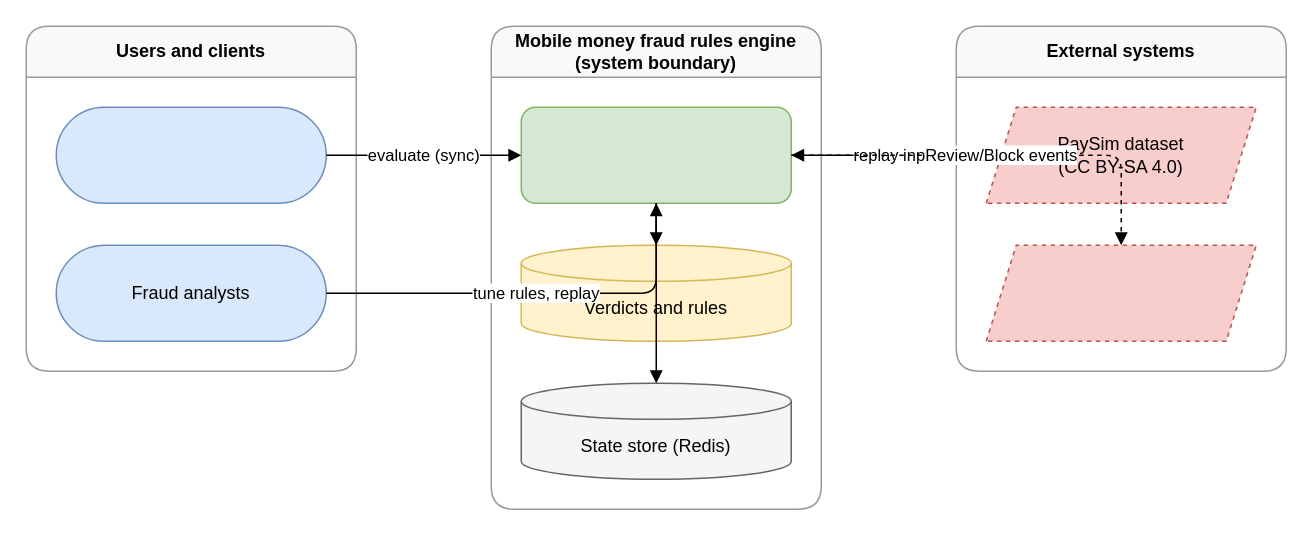
This 1313x536 diagram has some shape labels left out. The box of each missing label's shape, as (x1, y1, x2, y2) in pixels:
Case management (downstream): (985, 244, 1256, 341)
Fraud rules API: (520, 106, 791, 203)
Payment switch / wallet: (55, 106, 326, 203)
